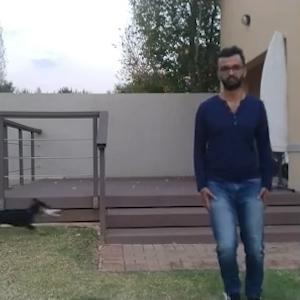follow: (179, 37, 276, 299)
